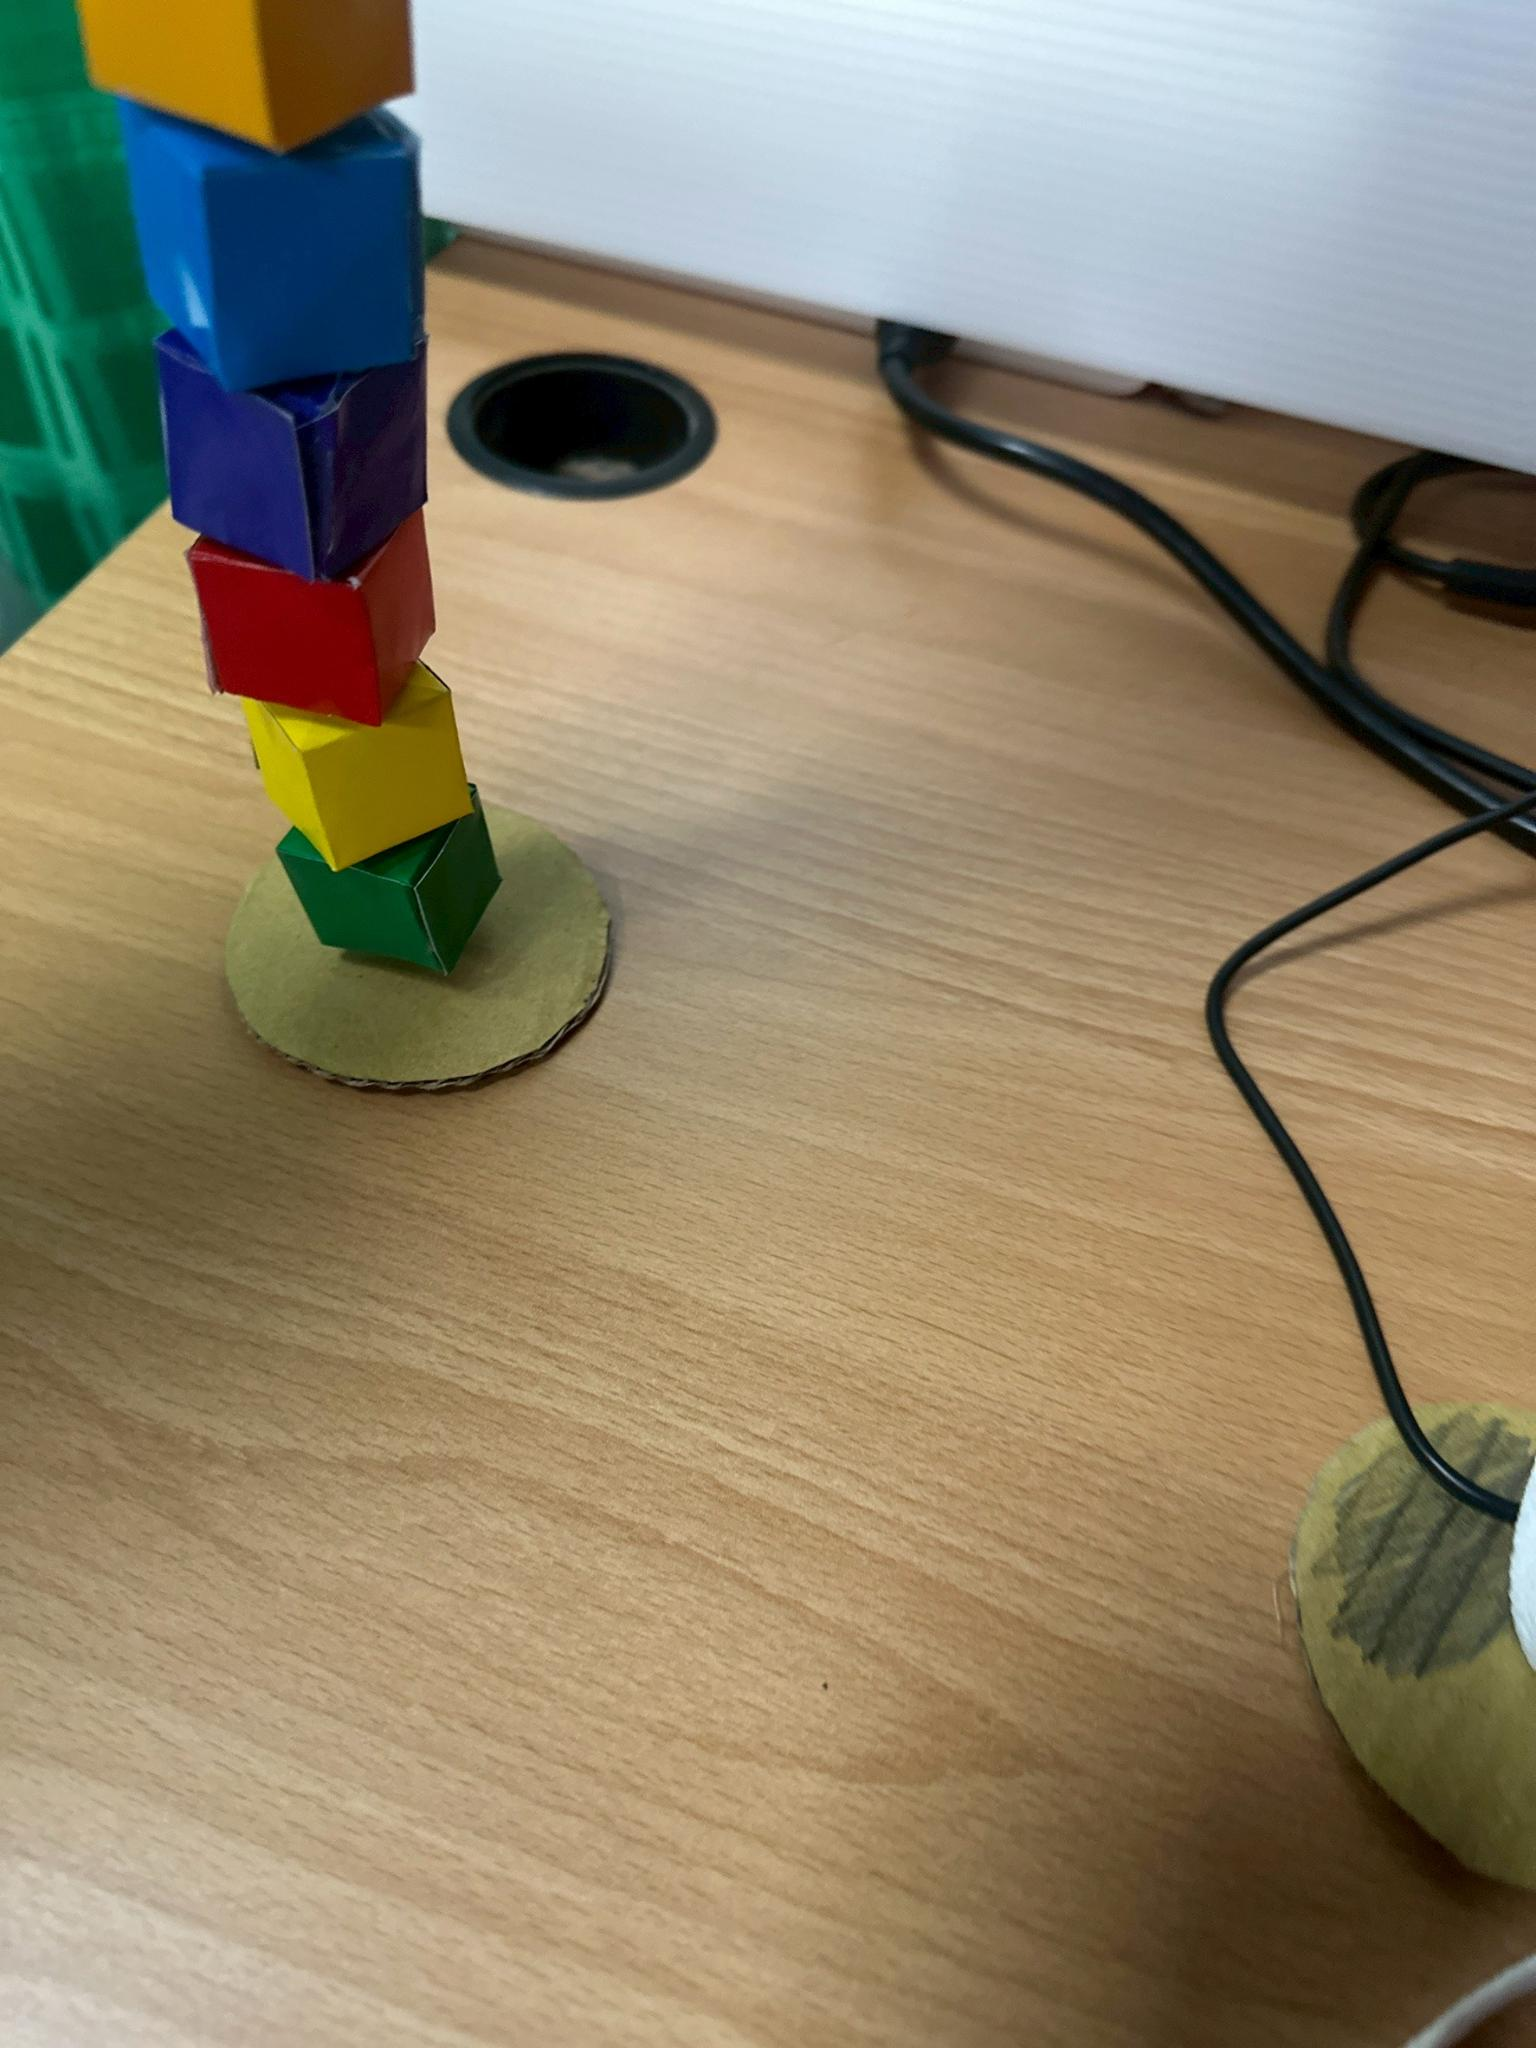base: (226, 806, 611, 1085)
